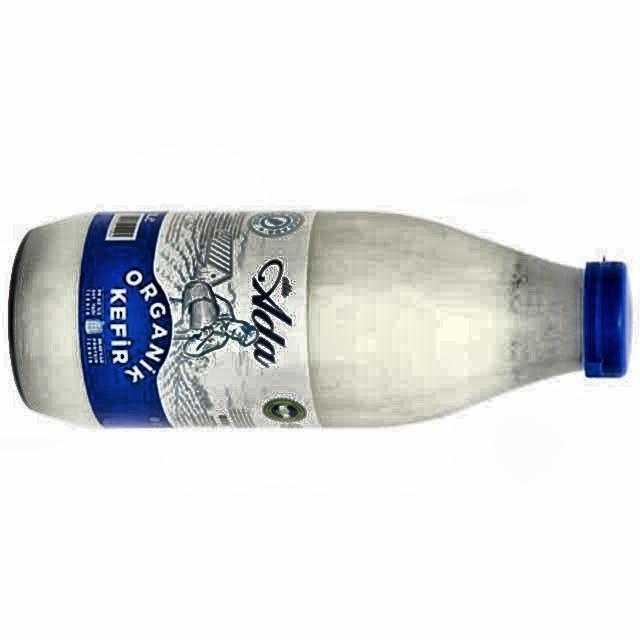plastic: (10, 211, 630, 426)
